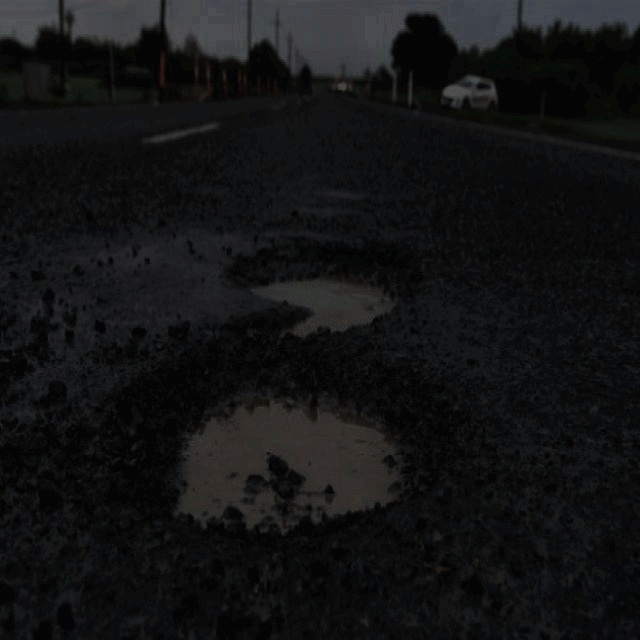Pothole: (103, 344, 444, 538), (226, 231, 421, 342)
